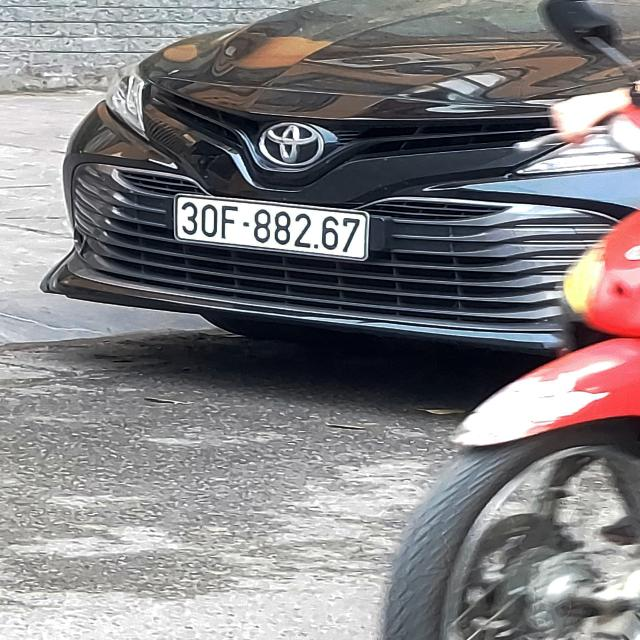license_plate: (174, 197, 372, 260)
